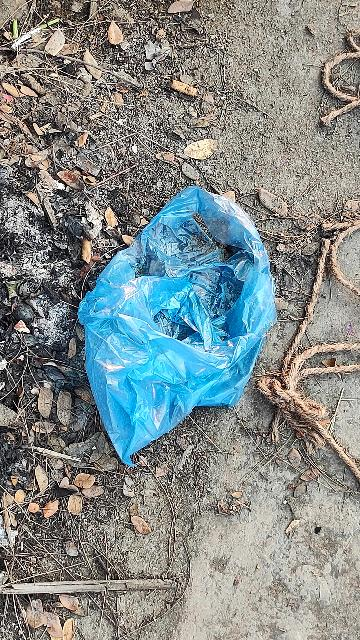polythene: (68, 193, 280, 453)
